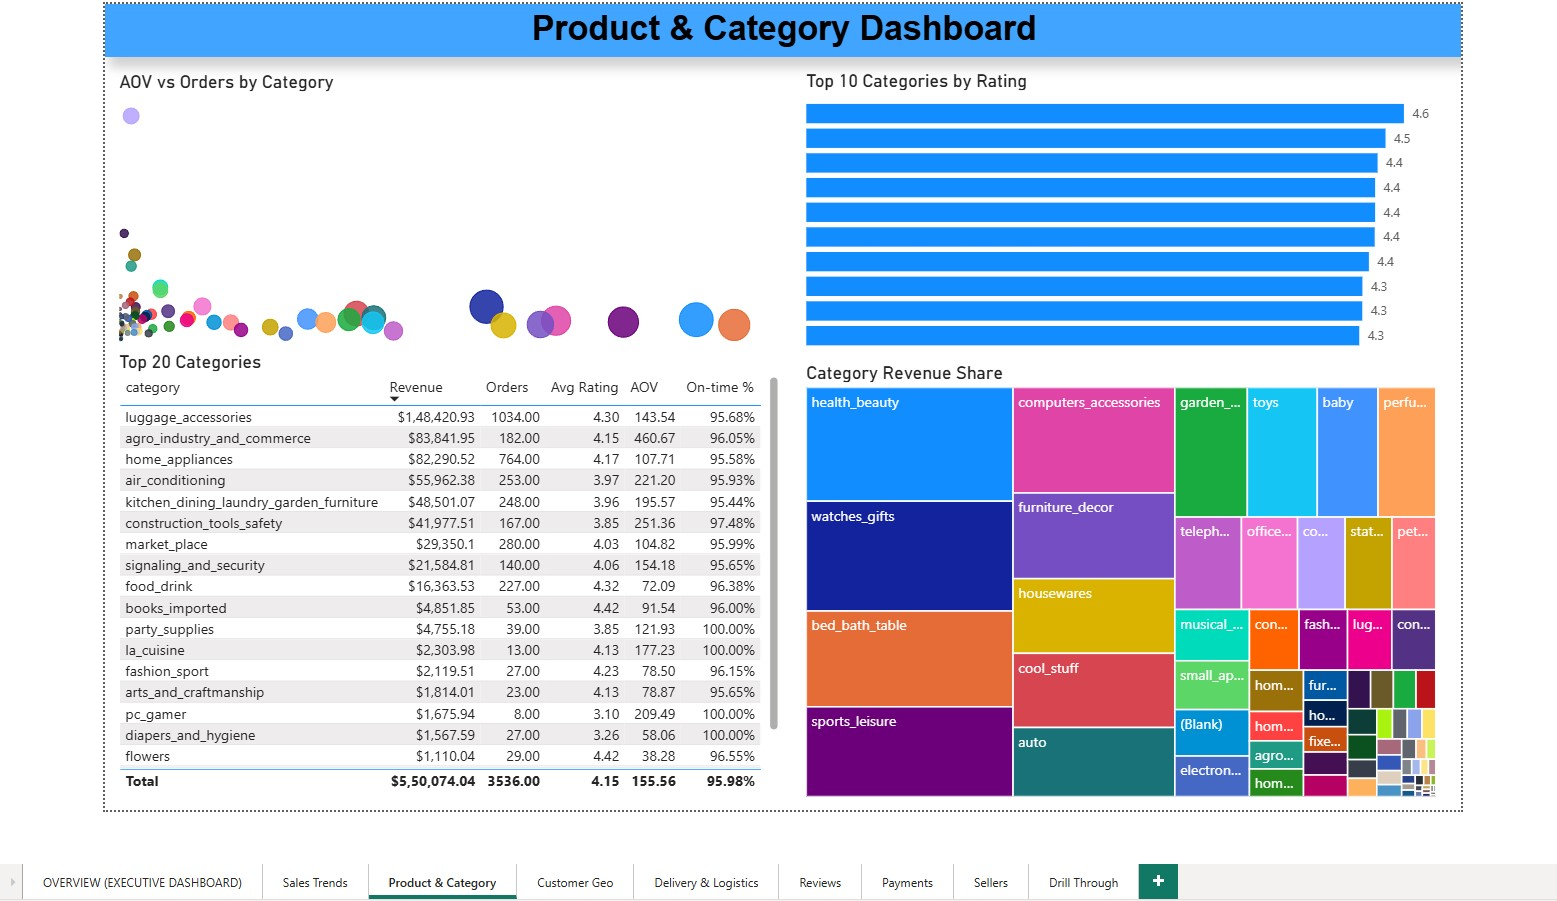

Layout of this report page (visuals, bound fields, positions):
{"tool":"powerbi","page":{"name":"Product & Category","canvas":[1280,760],"ordinal":2},"visuals":[{"type":"treemap","title":"Category Revenue Share","fields":{"Values":["public bi_fact_sales.Revenue"],"Group":["public bi_fact_sales.category"]},"box":[656.2,337.5,603.8,415],"z":0},{"type":"scatterChart","title":"AOV vs Orders by Category ","fields":{"Series":["public bi_fact_sales.category"],"X":["public bi_fact_sales.Orders"],"Y":["public bi_fact_sales.AOV"],"Size":["public bi_fact_sales.Revenue"]},"box":[8.1,63.6,626,264.2],"z":1000},{"type":"clusteredBarChart","title":"Top 10 Categories by Rating","fields":{"Category":["public bi_fact_sales.category"],"Y":["public bi_fact_sales.Avg Rating"]},"box":[656.2,62.7,617.1,265.1],"z":2000},{"type":"tableEx","title":"Top 20 Categories","fields":{"Values":["public bi_fact_sales.category","public bi_fact_sales.Revenue","public bi_fact_sales.Orders","public bi_fact_sales.Avg Rating","public bi_fact_sales.AOV","public bi_fact_sales.On-time %"]},"box":[8.1,327.8,632.2,419.4],"z":3000},{"type":"shape","box":[0,0,1280.2,50],"z":4000},{"type":"textbox","box":[388.5,0,504.2,50],"z":5000}]}

Visuals, with their boxes on the page's 1280x760 design canvas (x1, y1, x2, y2). These are canvas units, not pixel positions in the 1557x901 screenshot, which may show the page scaled, cropped or inside an application window:
"Category Revenue Share" treemap: <bbox>656, 338, 1260, 752</bbox>
"AOV vs Orders by Category " scatterChart: <bbox>8, 64, 634, 328</bbox>
"Top 10 Categories by Rating" clusteredBarChart: <bbox>656, 63, 1273, 328</bbox>
"Top 20 Categories" tableEx: <bbox>8, 328, 640, 747</bbox>
shape: <bbox>0, 0, 1280, 50</bbox>
textbox: <bbox>388, 0, 893, 50</bbox>
